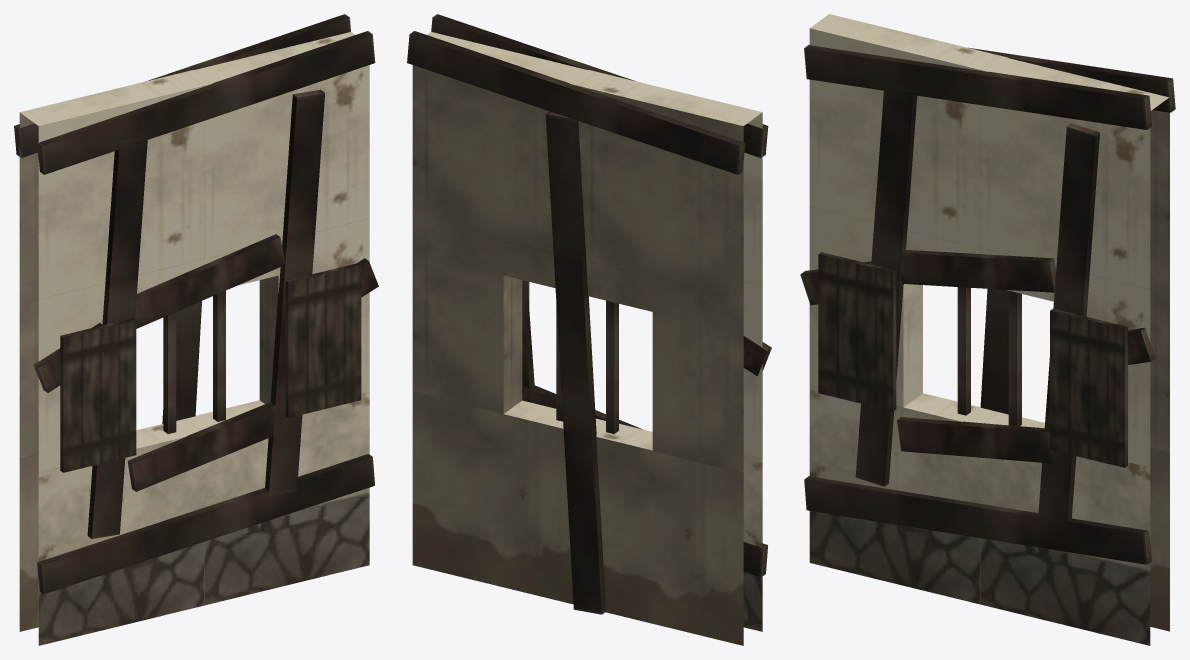
File: wall_window_timber.obj
The picture shows the model from 3 angles, left to right: view 1: azimuth 30°, elevation 25°; view 2: azimuth 150°, elevation 25°; view 3: azimuth 330°, elevation 25°; orthographic projection. The views are drawn at different scales.
Parts seen in each view (by area): view 1: wall_window_timber_4, wall_window_timber, wall_window_timber_3, wall_window_timber_2, wall_window_timber_1; view 2: wall_window_timber, wall_window_timber_3, wall_window_timber_4, wall_window_timber_2, wall_window_timber_1; view 3: wall_window_timber_4, wall_window_timber_3, wall_window_timber, wall_window_timber_2, wall_window_timber_1.
Part boxes in pixels (box(x1,y1,x2,y2)): wall_window_timber_4: box(14, 14, 378, 593); wall_window_timber: box(19, 90, 129, 645); wall_window_timber_3: box(259, 32, 369, 587); wall_window_timber_2: box(111, 54, 278, 293); wall_window_timber_1: box(129, 400, 278, 623); wall_window_timber: box(652, 90, 762, 645); wall_window_timber_3: box(412, 32, 522, 587); wall_window_timber_4: box(407, 14, 771, 614); wall_window_timber_2: box(503, 54, 671, 311); wall_window_timber_1: box(503, 400, 652, 623); wall_window_timber_4: box(800, 44, 1175, 564); wall_window_timber_3: box(1056, 74, 1169, 645); wall_window_timber: box(809, 14, 922, 585); wall_window_timber_2: box(903, 37, 1075, 301); wall_window_timber_1: box(903, 393, 1056, 622).
Size of the model in its own units: 2.06 by 3.09 by 0.33.
Materials: 1 (1 with a texture image).
